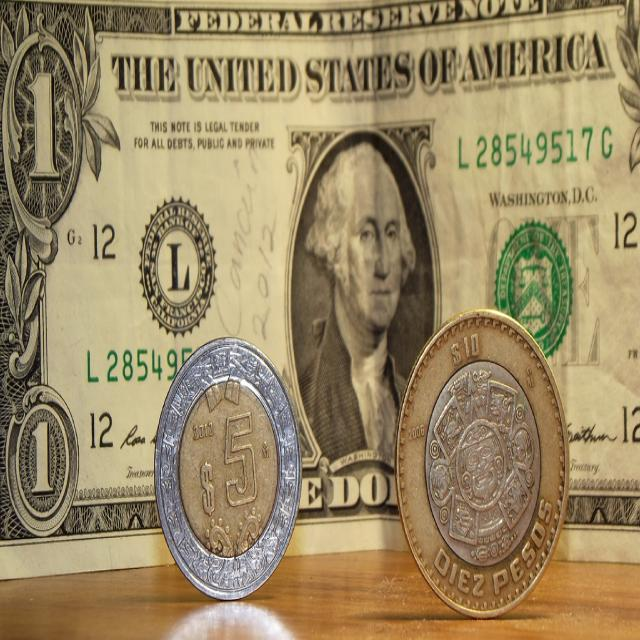Coin: (392, 308, 564, 608), (153, 333, 303, 594)
